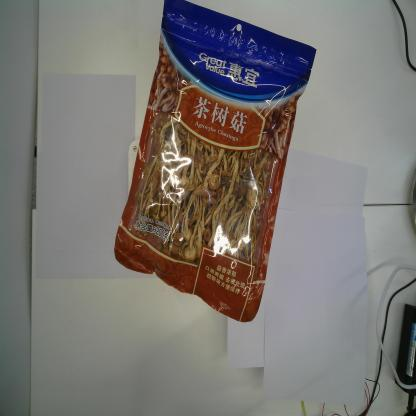Dried Food: (113, 0, 318, 324)
